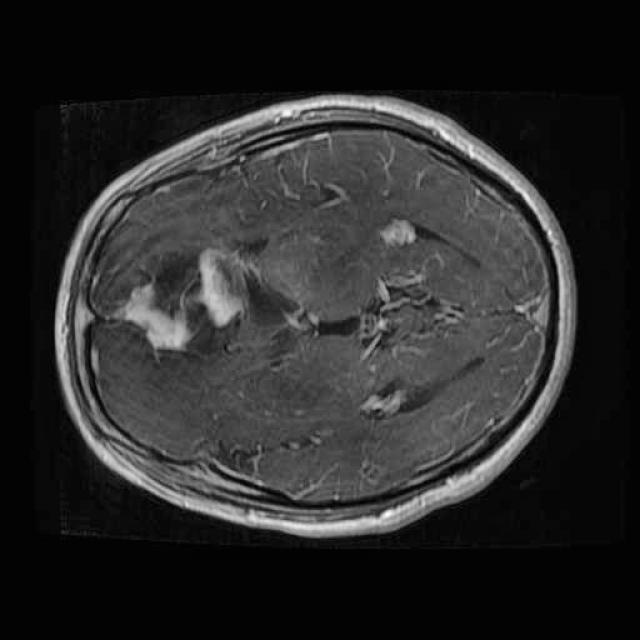Tumor: (114, 240, 306, 358)
